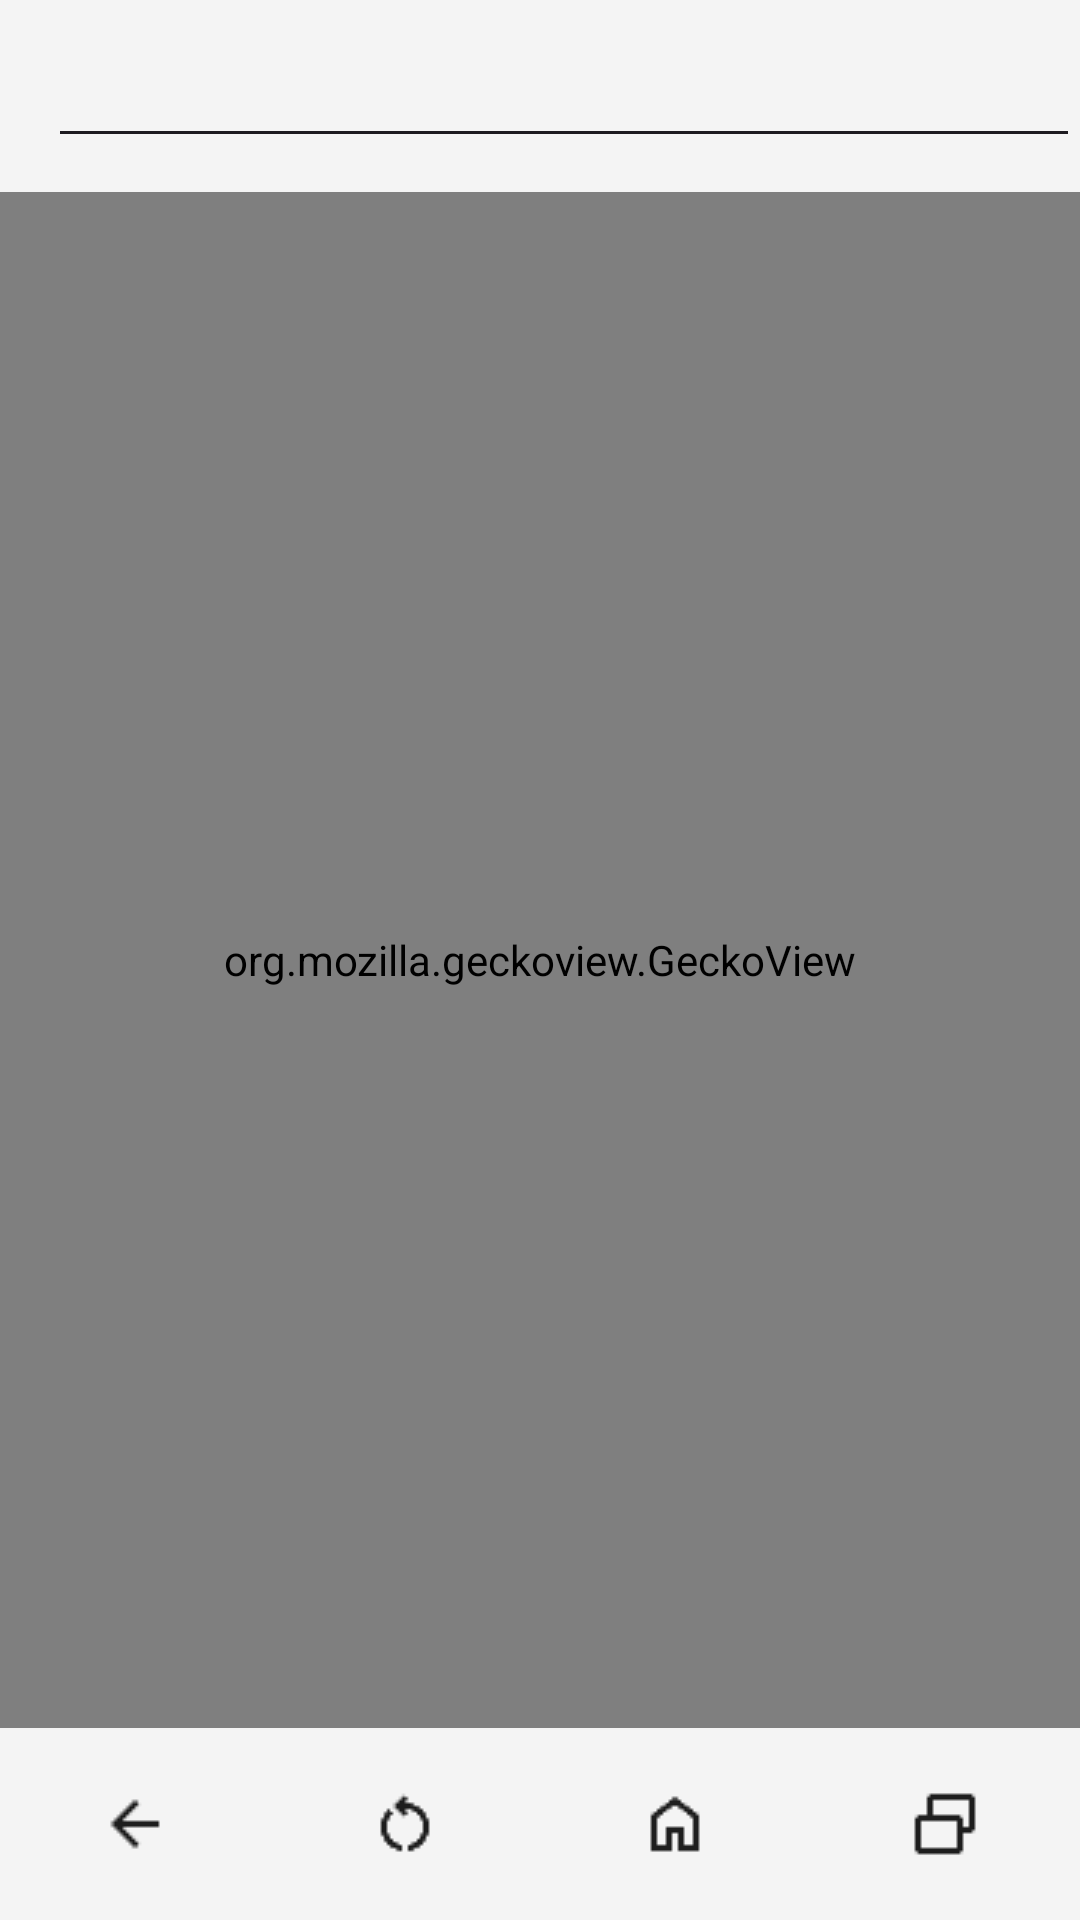

Icon bounding boxes for this 1080 × 1920 phone screenshot, format rect(x1, y1, x2, y2):
back: rect(110, 1799, 160, 1849)
home: rect(650, 1796, 700, 1852)
reload: rect(380, 1794, 430, 1852)
tabs: rect(914, 1793, 976, 1855)
